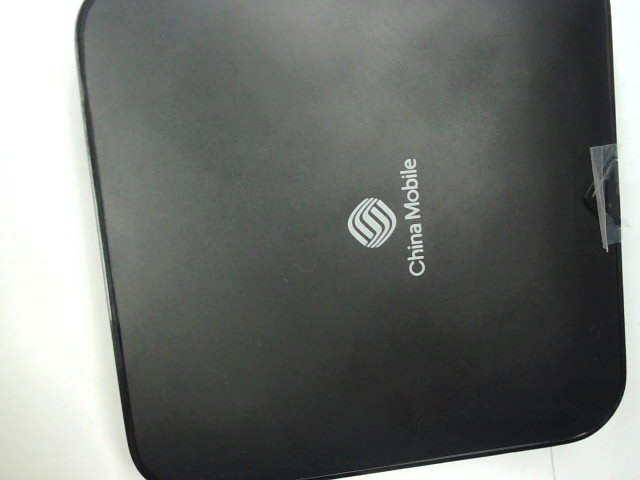AA_ChinaMobile: (325, 145, 451, 287)
